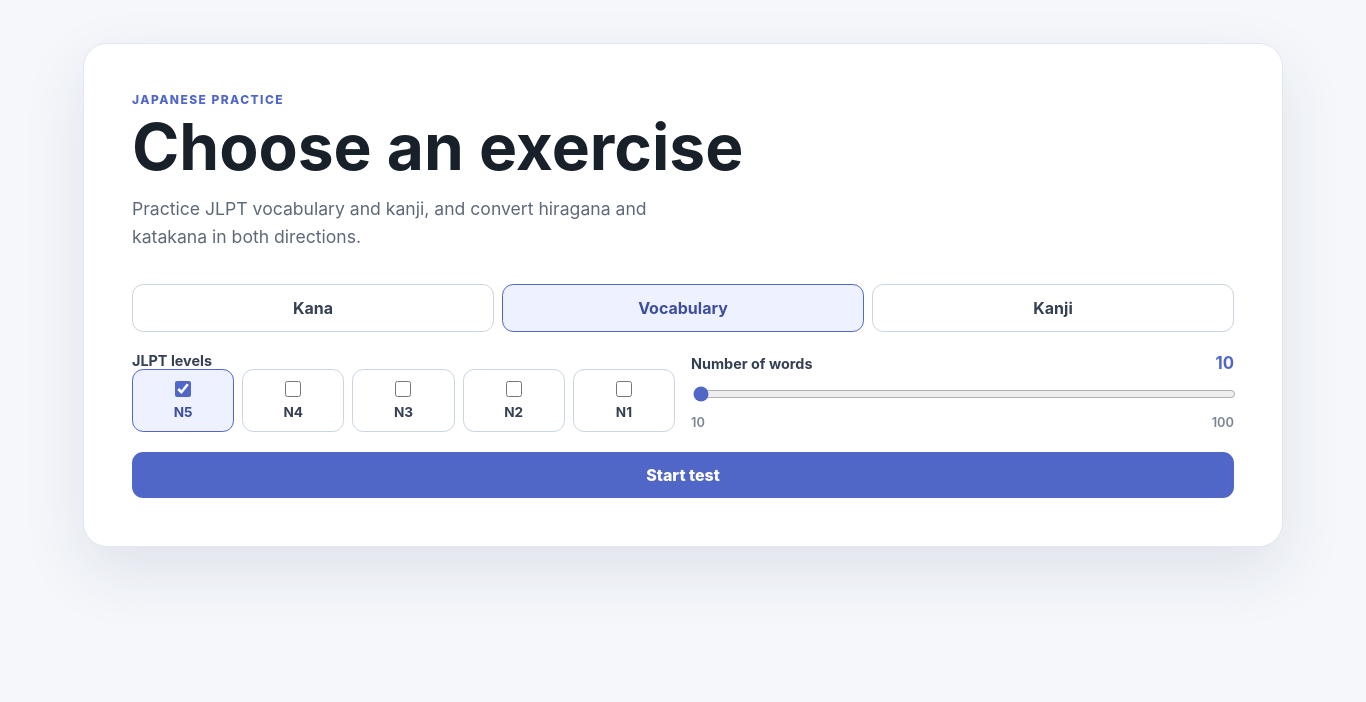
Test: HomeView › selects every main kana row and clears the category when one row is deselected
This screenshot has width=1366, height=702.
Click the button with class "exercise-tab" showing "Kana". click: point(313, 308)
box: [132, 284, 494, 332]
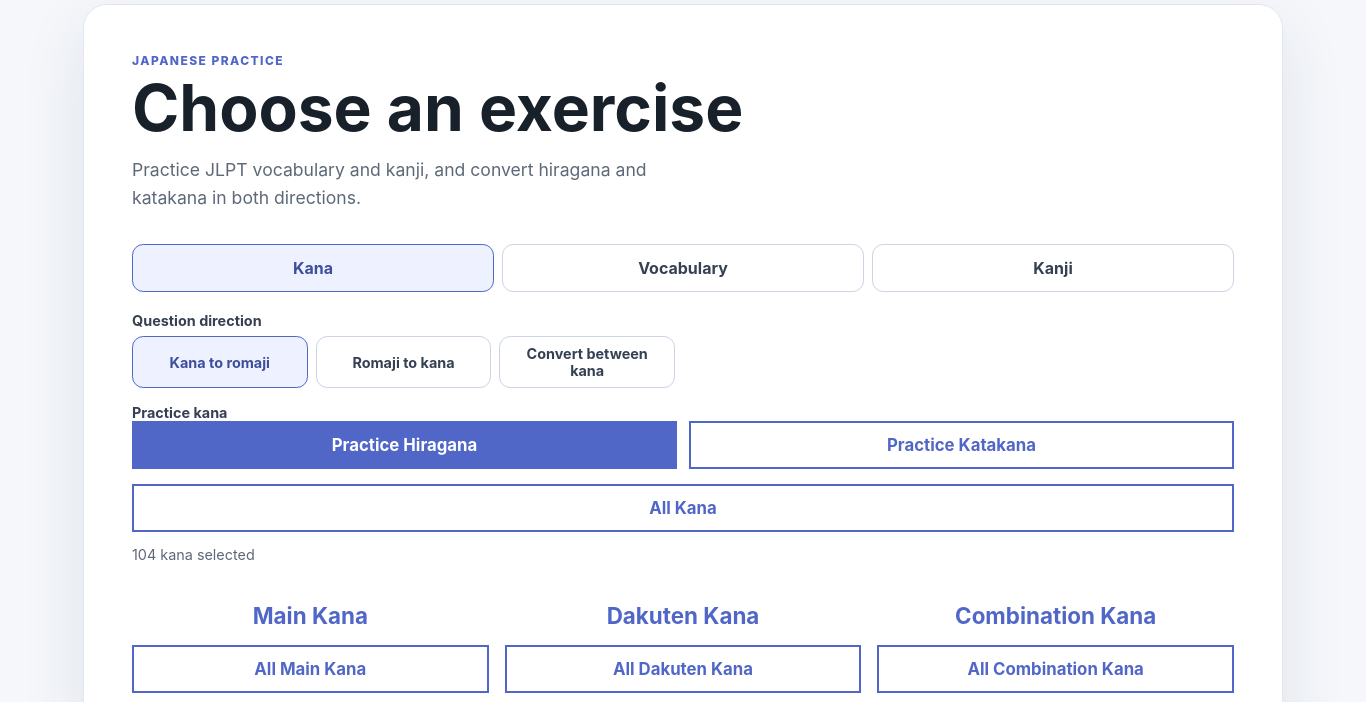
Click the button with class "kana-category-all" showing "All Main Kana". click: point(310, 669)
box: [132, 645, 489, 693]
(page scrolled)
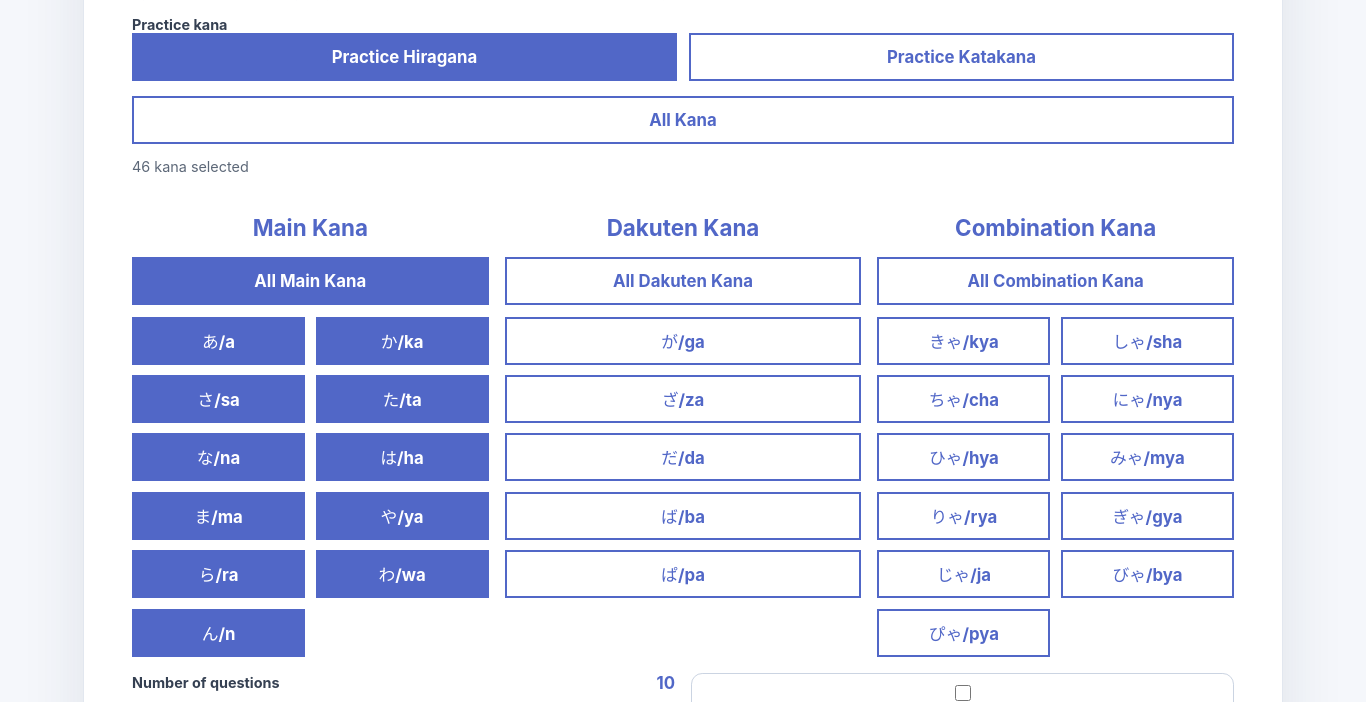
Result: the text "46 kana selected" is shown at [132, 158, 249, 175]
Click the button with class "kana-choice" showing "か/ka". click: point(402, 341)
box: [316, 317, 489, 365]
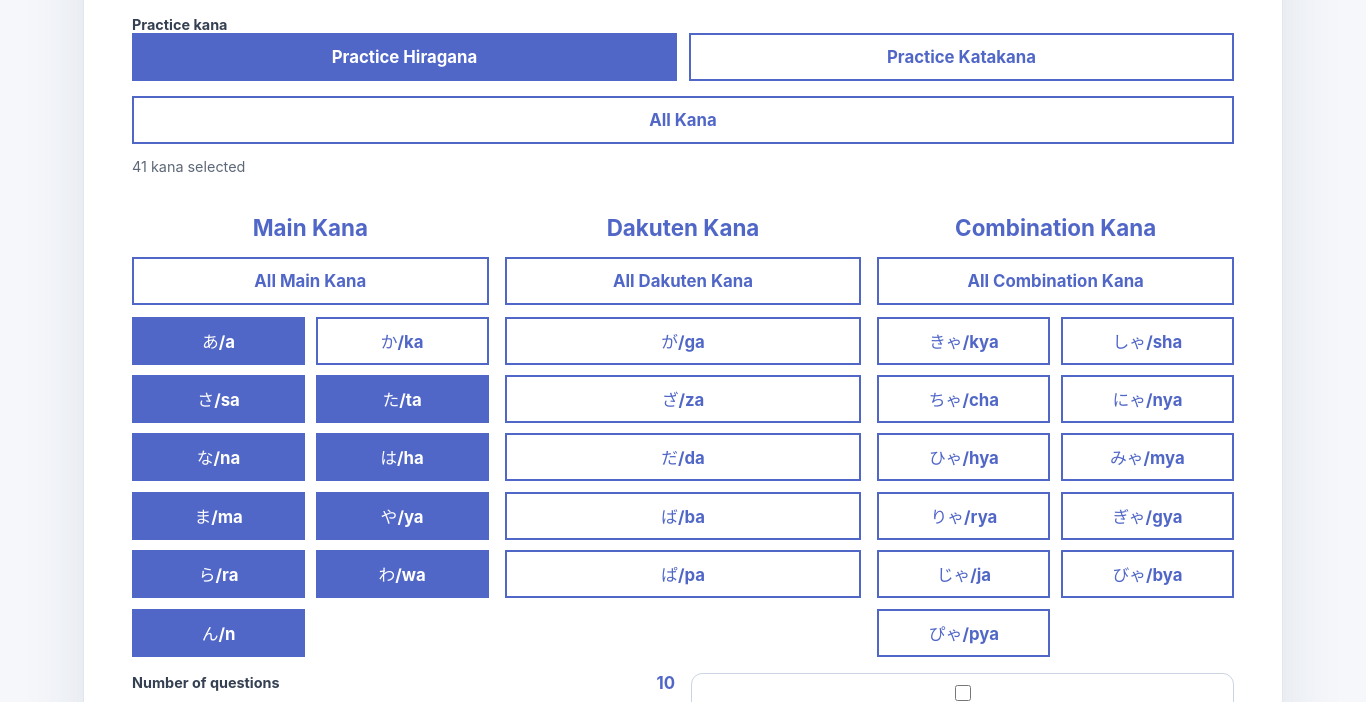
Result: the text "41 kana selected" is shown at [132, 158, 245, 175]
